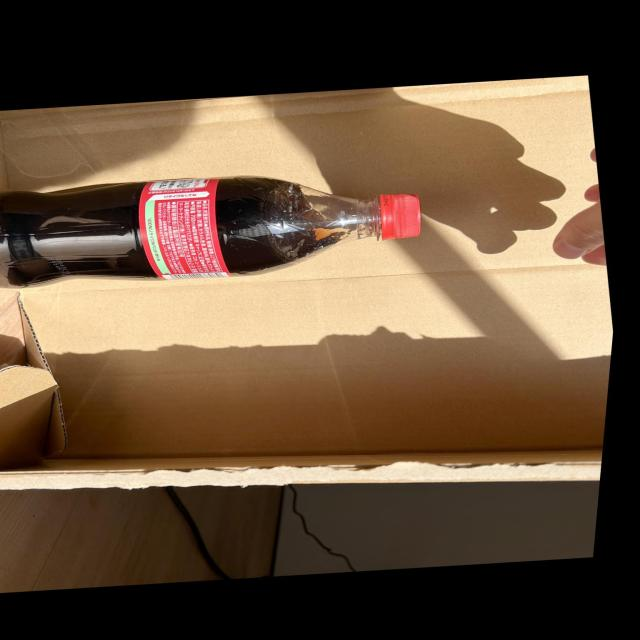high: (0, 175, 420, 286)
